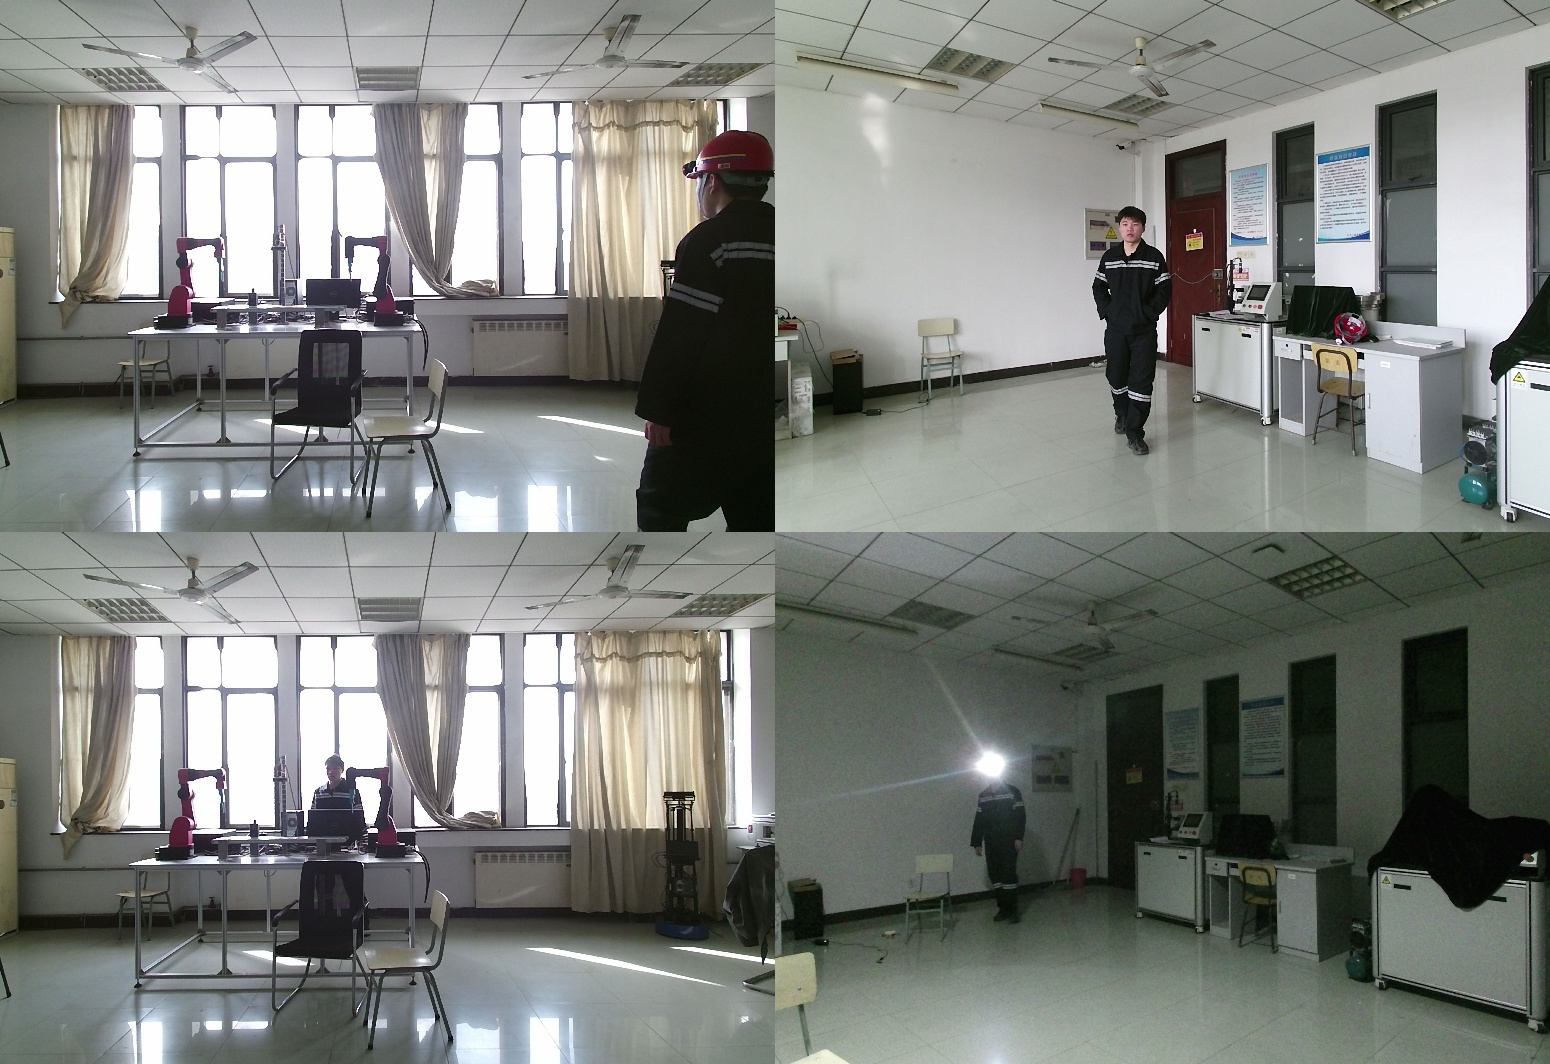person: (636, 131, 775, 532), (1090, 207, 1177, 454), (969, 758, 1037, 928), (303, 755, 369, 833)
